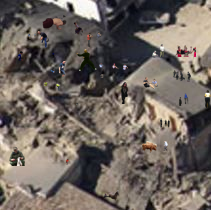Human: (17, 51, 55, 64), (42, 11, 68, 30), (184, 90, 211, 108), (76, 49, 97, 71), (142, 141, 168, 153), (9, 147, 25, 166), (174, 44, 196, 57), (87, 32, 104, 47), (170, 70, 191, 82), (98, 62, 128, 70), (72, 20, 86, 36), (103, 190, 119, 203), (37, 31, 49, 48), (119, 82, 128, 104), (143, 77, 158, 90), (152, 44, 165, 58), (44, 81, 60, 92), (56, 61, 66, 77), (160, 118, 170, 128), (27, 33, 36, 39), (100, 69, 105, 78), (179, 97, 182, 106), (66, 159, 70, 165), (50, 69, 55, 73), (76, 103, 78, 105), (209, 9, 210, 13), (70, 94, 71, 96), (77, 175, 78, 177)
